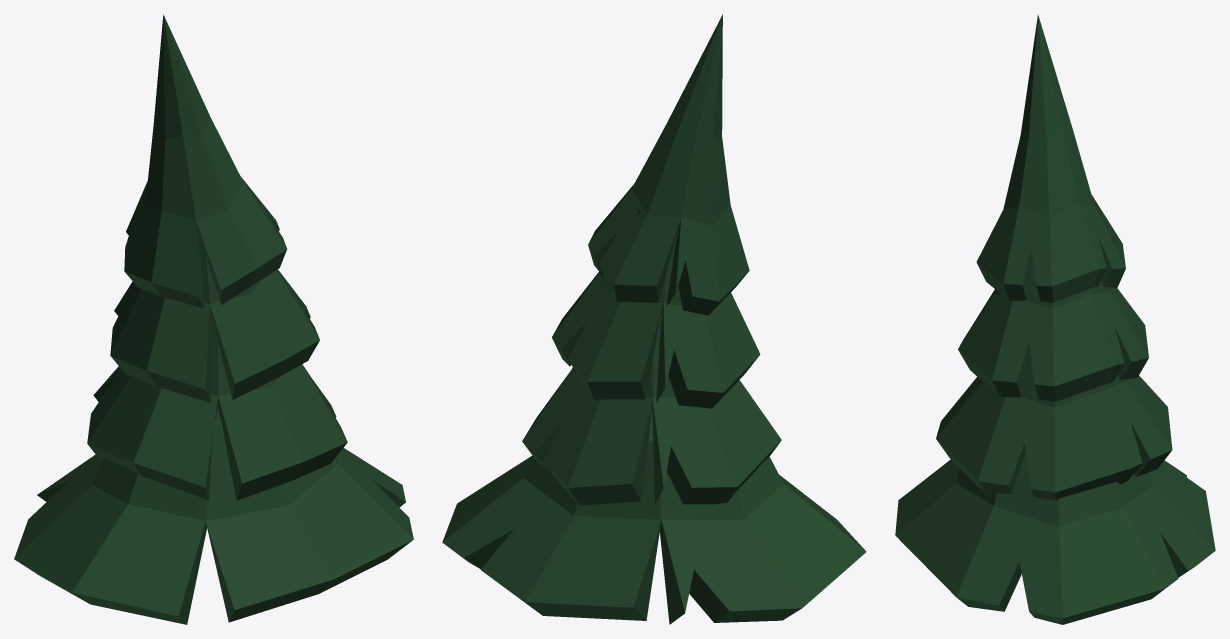
File: PineTrees.fbx
The picture shows the model from 3 angles, left to right: view 1: azimuth 30°, elevation 25°; view 2: azimuth 150°, elevation 25°; view 3: azimuth 270°, elevation 25°; orthographic projection. The views are drawn at different scales.
Visible parts, largest first — view 1: PineTrees; view 2: PineTrees; view 3: PineTrees.
Boxes of the visible parts, x1,y1,x2,y2 form: PineTrees: [14, 14, 413, 624]; PineTrees: [442, 14, 866, 624]; PineTrees: [895, 14, 1215, 624].
Size of the model in its own units: 5809 by 8438 by 4796.
